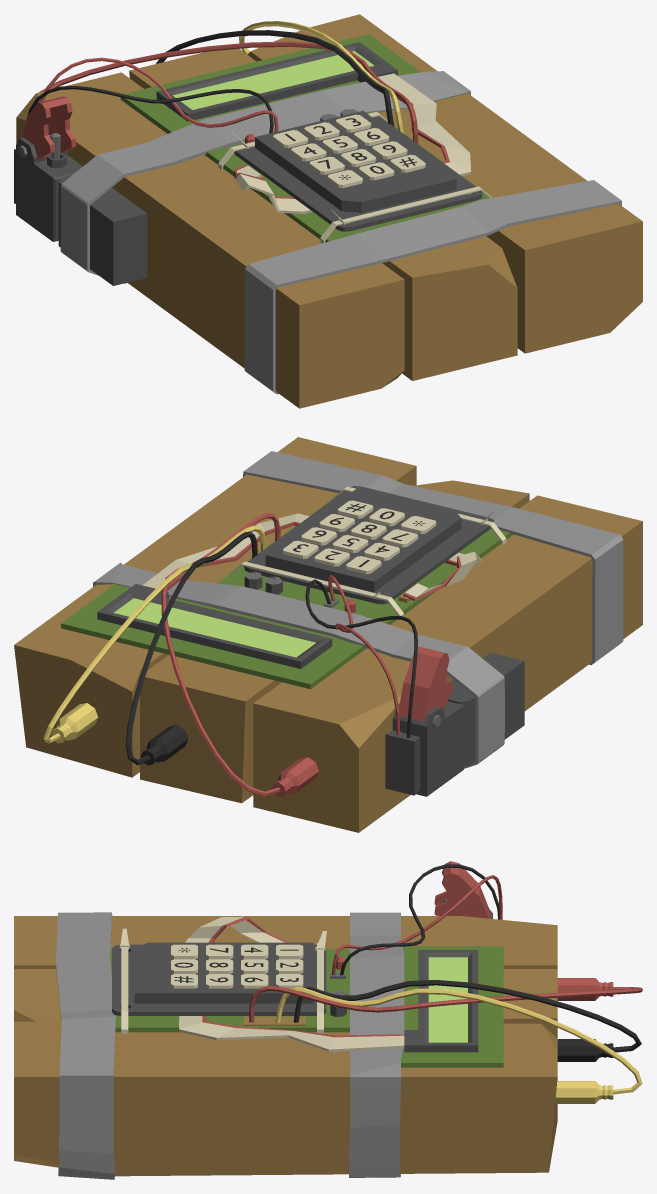
The model's file is bomb.glb.
3 renders of one model, top to bottom at view 1: azimuth 30°, elevation 25°; view 2: azimuth 150°, elevation 25°; view 3: azimuth 270°, elevation 25°, orthographic. The views are drawn at different scales.
Visible parts, largest first — view 1: C4; view 2: C4; view 3: C4.
Boxes of the visible parts, x1=… form: C4: x1=14, y1=14, x2=642, y2=408; C4: x1=14, y1=437, x2=642, y2=832; C4: x1=14, y1=861, x2=642, y2=1179.
Size of the model in its own units: 0.5414 by 0.2229 by 0.7907.
